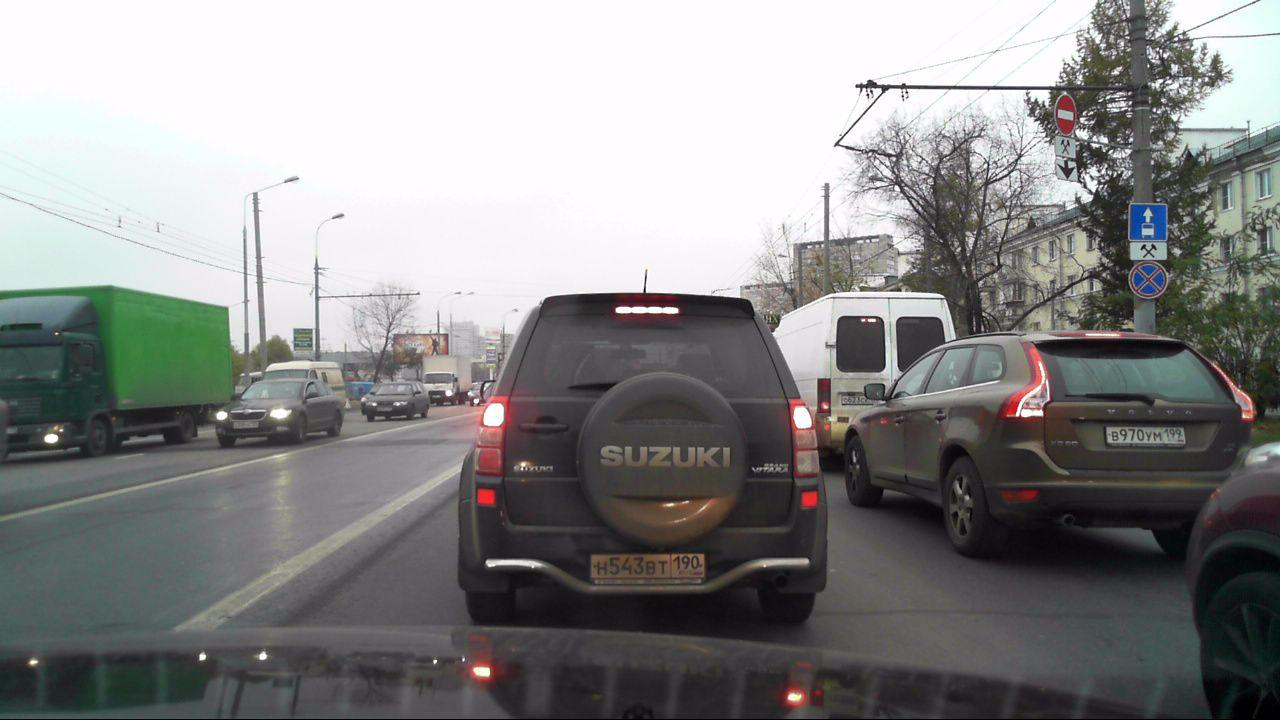3_1: (1055, 92, 1079, 135)
3_27: (1128, 262, 1167, 299)
5_14_1: (1127, 203, 1168, 240)
8_14: (1053, 159, 1079, 181)
8_5_2: (1126, 242, 1170, 261), (1055, 137, 1077, 158)
